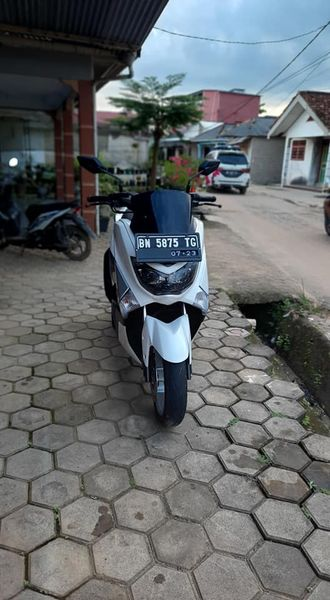plate: (134, 233, 202, 261)
